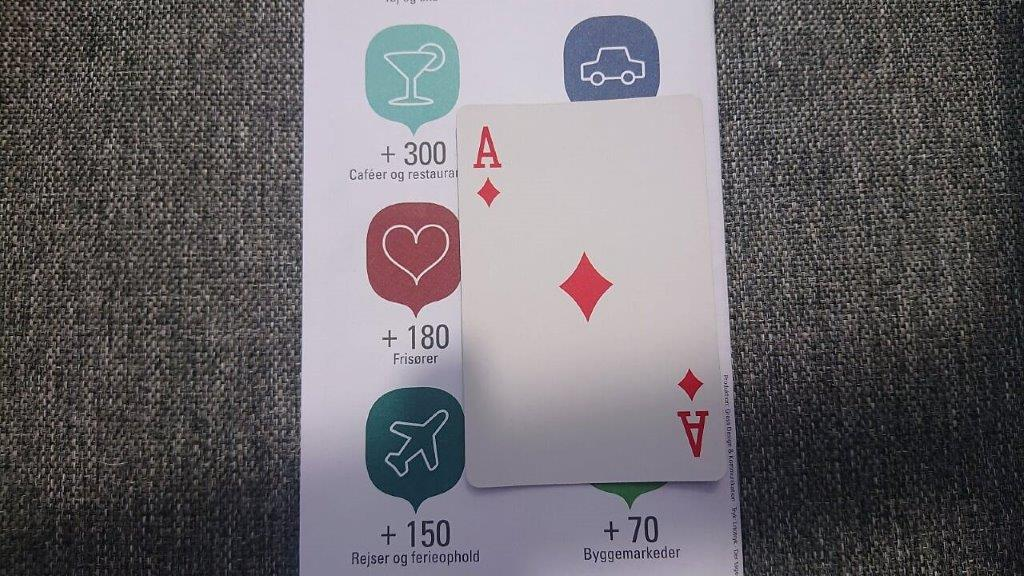AD: (466, 119, 506, 214)
